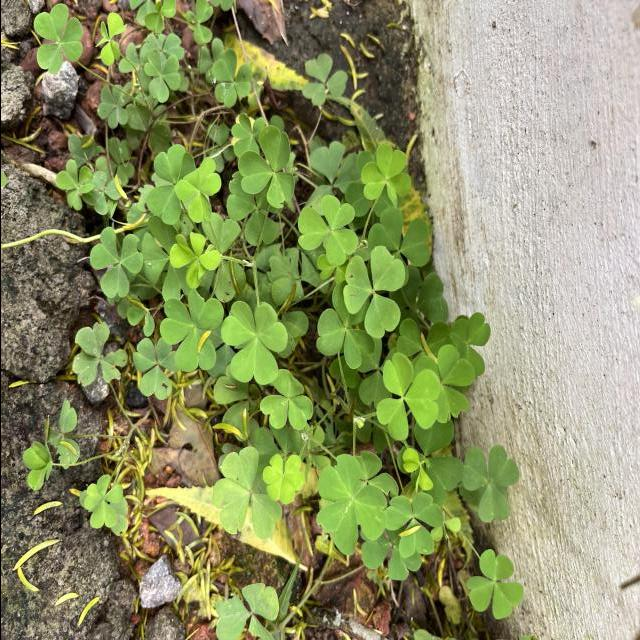Oxalis corniculata: (314, 452, 388, 556), (211, 445, 283, 540), (341, 244, 406, 340), (374, 351, 440, 442), (220, 299, 288, 386), (158, 287, 224, 373), (237, 123, 294, 210), (461, 444, 520, 523), (296, 194, 358, 267), (465, 548, 524, 622), (382, 492, 444, 560), (88, 226, 143, 300), (31, 1, 83, 76), (358, 143, 412, 210), (258, 368, 313, 430), (173, 157, 222, 224), (168, 231, 220, 288), (260, 452, 306, 506), (82, 474, 124, 528), (142, 48, 180, 104)
